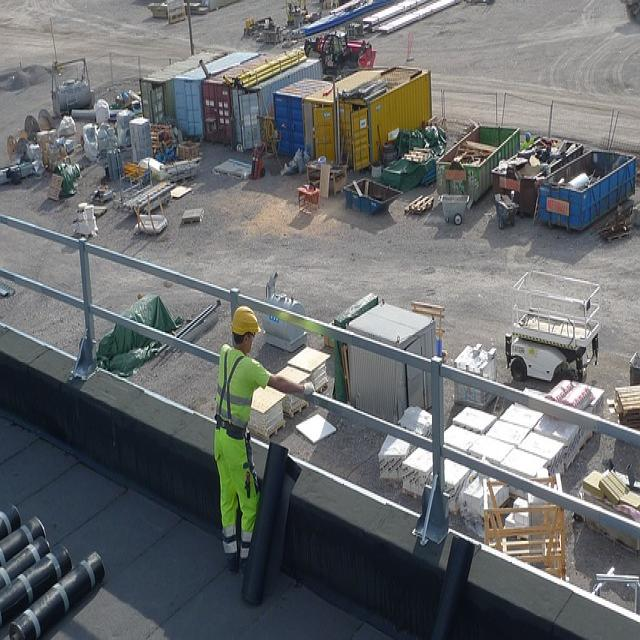Reflective-Jacket: (216, 347, 254, 440)
Safety-Helmet: (231, 305, 260, 337)
